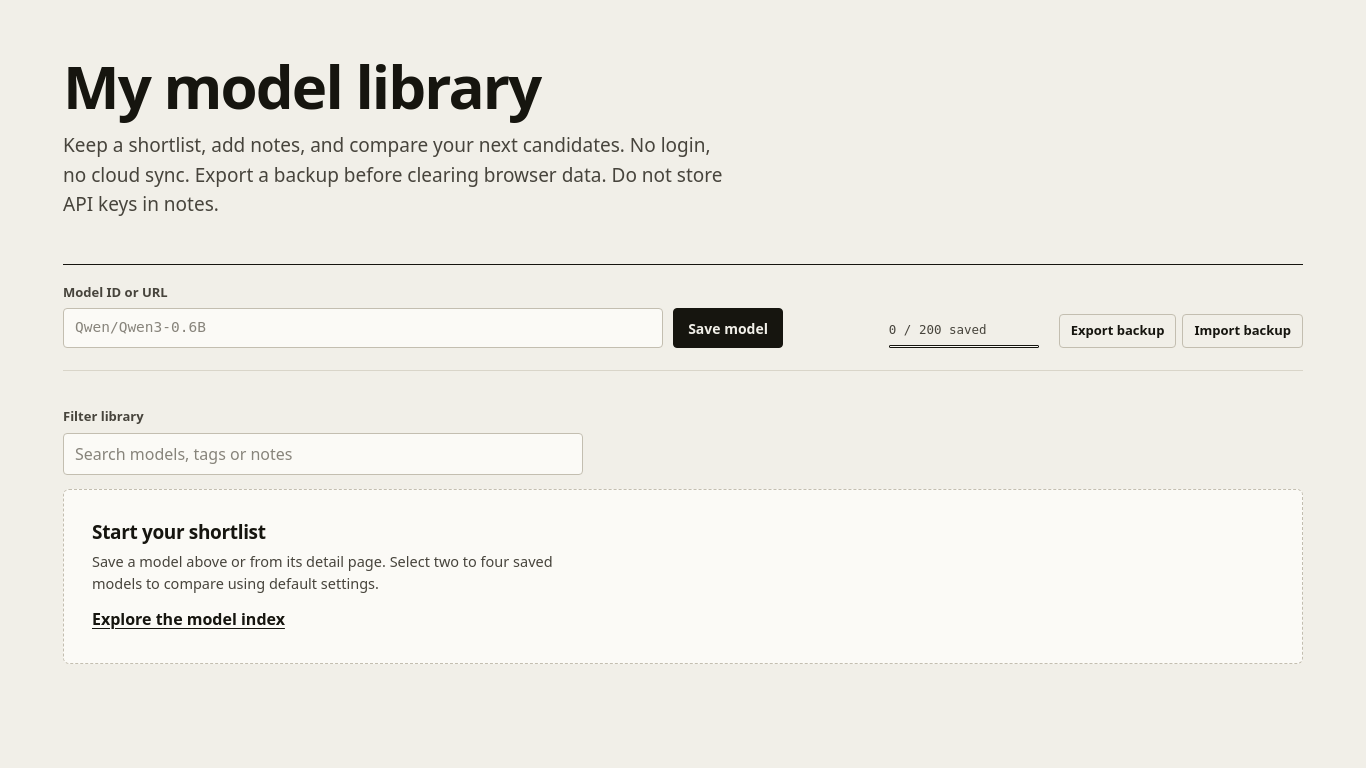
Test: saves notes and allows recovering a removed model
Type "org/model" into the field named "Save model ID or URL".
click(363, 328); type("org/model")  # box [63, 308, 663, 348]
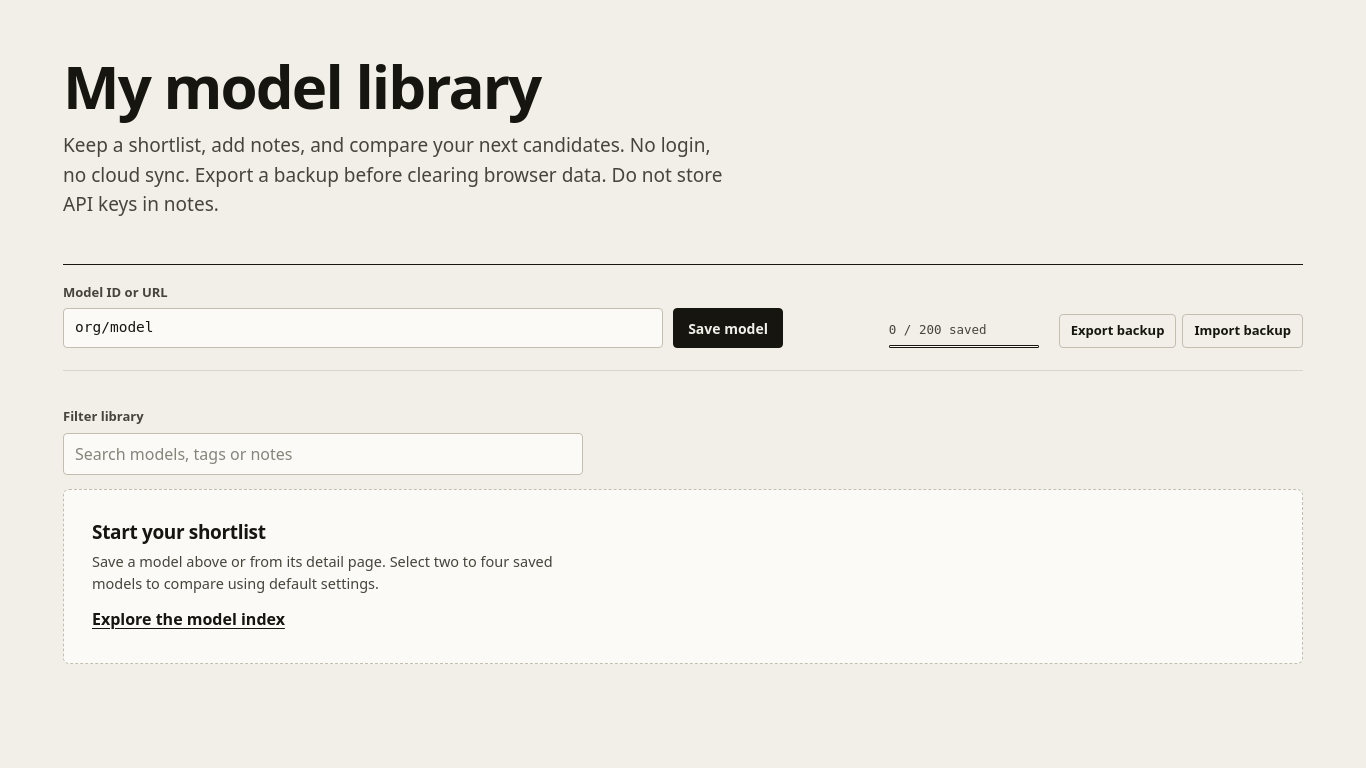
Click the button "Save model".
click(728, 328)  # box [673, 308, 783, 348]
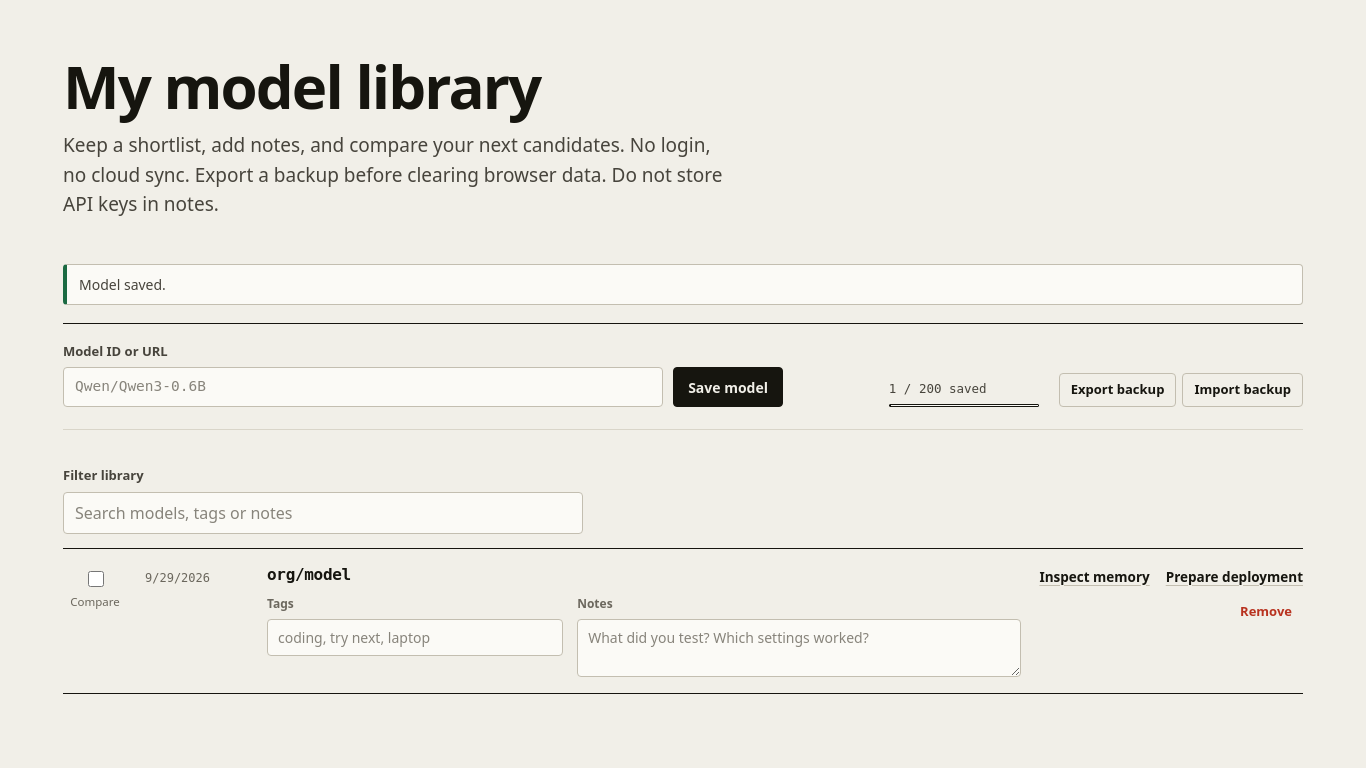
Expected: the link "org/model" is shown, [267, 564, 351, 584]
Type "Useful on laptop" into the text box named "Notes for org/model".
click(799, 648); type("Useful on laptop")  # box [577, 619, 1021, 677]
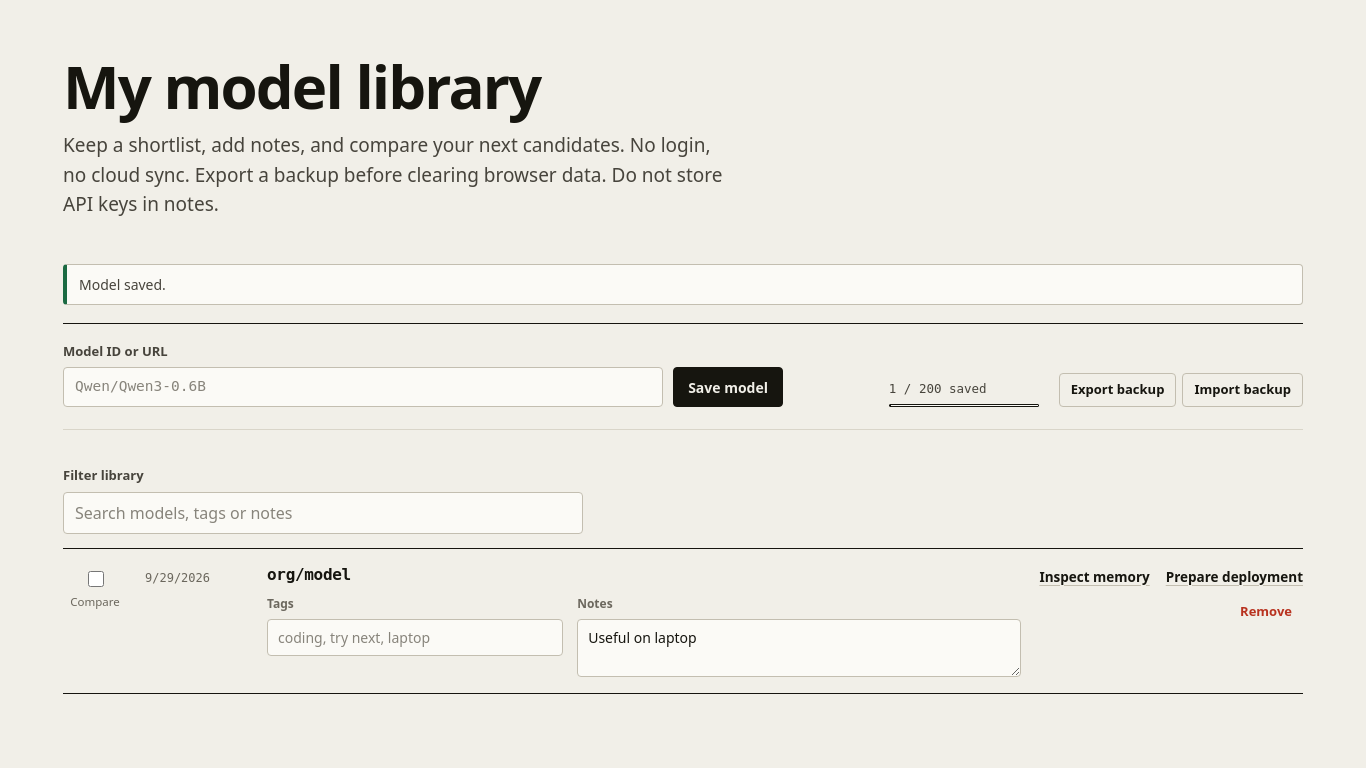
Click the button with aria-label "Remove org/model".
click(1266, 612)  # box [1229, 595, 1303, 629]
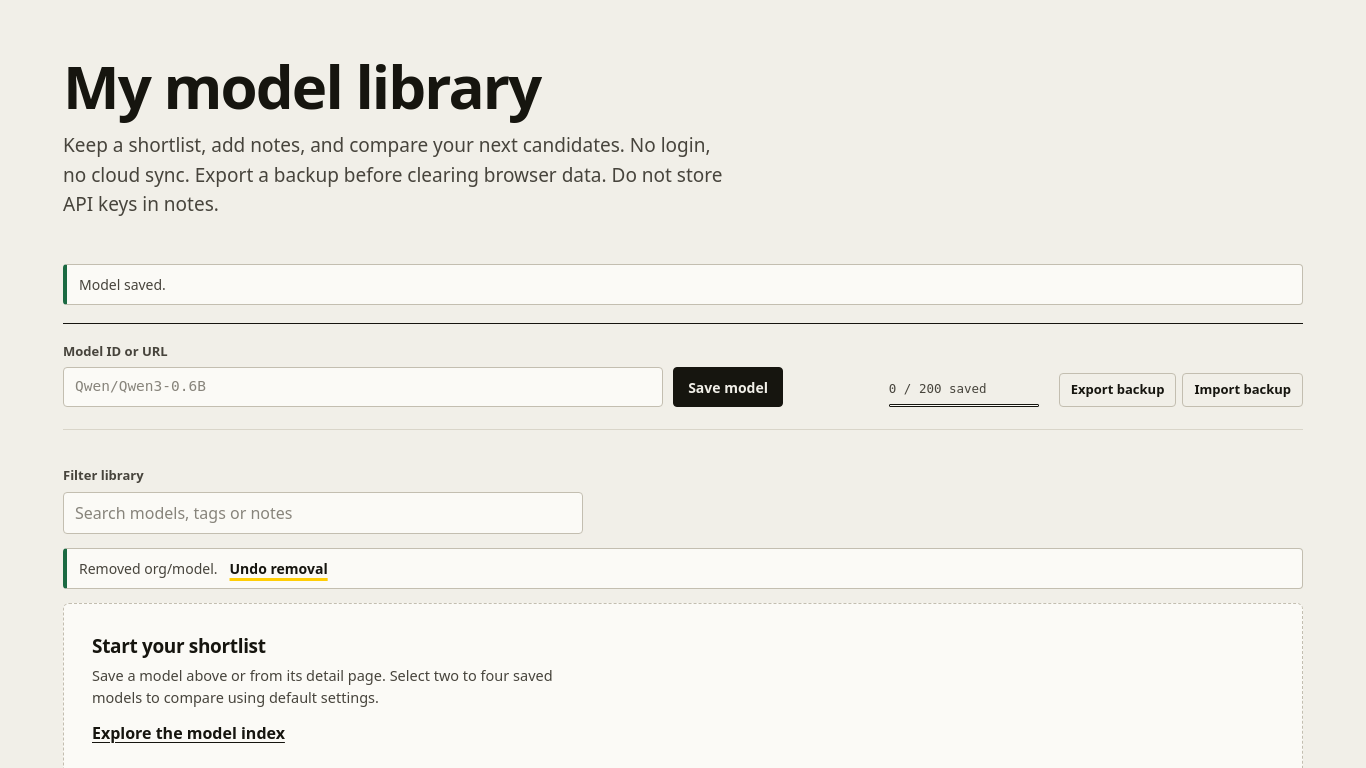
Click the button "Undo removal".
click(279, 568)  # box [230, 558, 328, 578]
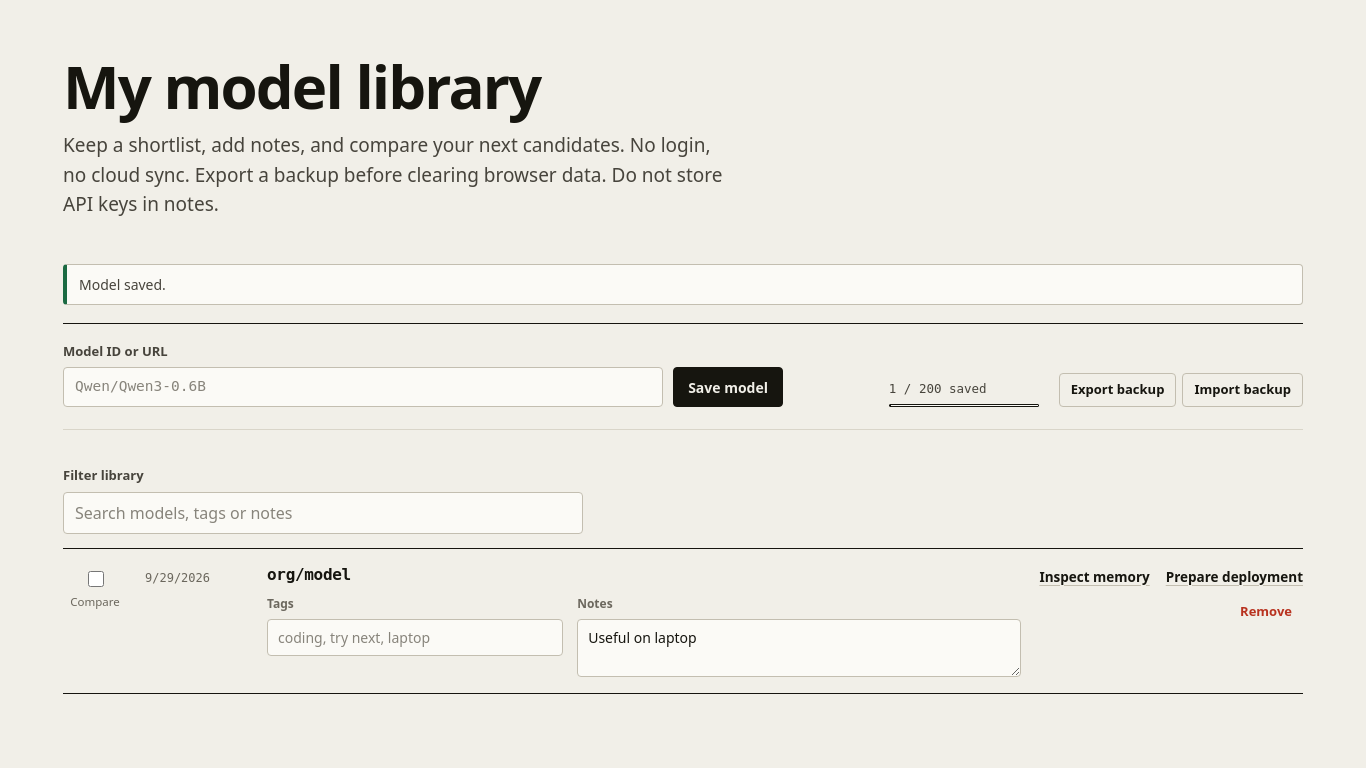
Expected: the text box named "Notes for org/model" holds "Useful on laptop", [577, 619, 1021, 677]
